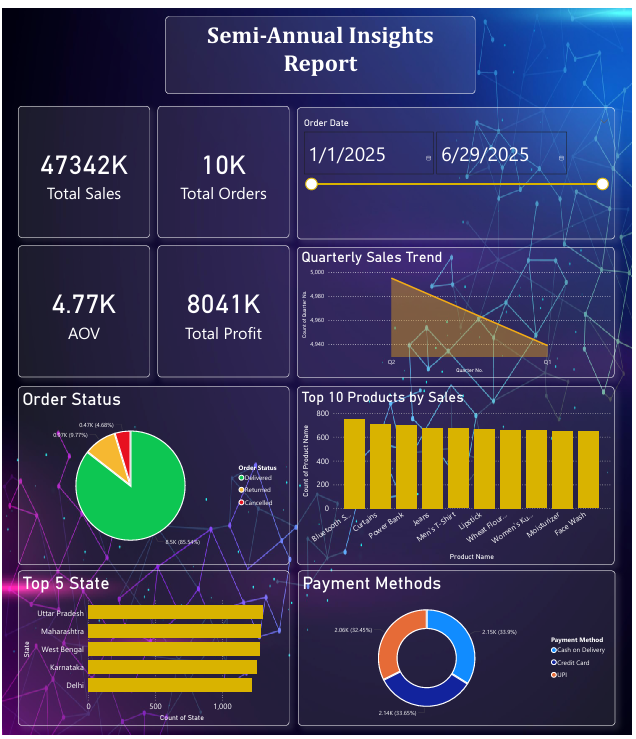

The dashboard page shown, as its layout file describes it:
{"tool":"powerbi","page":{"name":"Page 1","canvas":[1300,1500],"ordinal":0},"visuals":[{"type":"textbox","box":[336,16,640,160],"z":0},{"type":"card","fields":{"Values":["Sum(Sheet1.Total Sales (INR))"]},"box":[32,201.2,272,272],"z":1000},{"type":"card","fields":{"Values":["Sheet1.Total Orders"]},"box":[320,201.2,272,272],"z":2000},{"type":"card","fields":{"Values":["Sheet1.AOV"]},"box":[32,489.2,272,272],"z":3000},{"type":"card","fields":{"Values":["Sum(Sheet1.Profit (INR))"]},"box":[320,489.2,272,272],"z":4000},{"type":"slicer","fields":{"Values":["Sheet1.Order Date"]},"box":[608,204,656,272],"z":5000},{"type":"stackedAreaChart","title":"Quarterly Sales Trend ","fields":{"Category":["Sheet1.Quarter No."],"Y":["CountNonNull(Sheet1.Quarter No.)","select"]},"box":[608.3,491.7,655,270],"z":6000},{"type":"pieChart","title":"Order Status","fields":{"Category":["Sheet1.Delivery Status"],"Y":["CountNonNull(Sheet1.Delivery Status)"]},"box":[32,780,560,368],"z":7000},{"type":"clusteredBarChart","title":"Top 5 State","fields":{"Category":["Sheet1.State"],"Y":["CountNonNull(Sheet1.State)"]},"box":[32,1160,560,320],"z":8000},{"type":"donutChart","title":"Payment Methods","fields":{"Category":["Sheet1.Payment Method"],"Y":["CountNonNull(Sheet1.Payment Method)"]},"box":[610,1160,655,320],"z":9000},{"type":"clusteredColumnChart","title":"Top 10 Products by Sales","fields":{"Category":["Sheet1.Product Name"],"Y":["CountNonNull(Sheet1.Product Name)"]},"box":[608.3,780,655,368.3],"z":10000}]}

Visuals, with their boxes in screenshot pixels (x1, y1, x2, y2), scaled from the page's 1300x1500 canvas onto the 636x739 screenshot:
textbox: bbox=(164, 8, 477, 87)
card - Sum(Sheet1.Total Sales (INR)): bbox=(16, 99, 149, 233)
card - Sheet1.Total Orders: bbox=(157, 99, 290, 233)
card - Sheet1.AOV: bbox=(16, 241, 149, 375)
card - Sum(Sheet1.Profit (INR)): bbox=(157, 241, 290, 375)
slicer - Sheet1.Order Date: bbox=(297, 101, 618, 235)
"Quarterly Sales Trend " stackedAreaChart: bbox=(298, 242, 618, 375)
"Order Status" pieChart: bbox=(16, 384, 290, 566)
"Top 5 State" clusteredBarChart: bbox=(16, 571, 290, 729)
"Payment Methods" donutChart: bbox=(298, 571, 619, 729)
"Top 10 Products by Sales" clusteredColumnChart: bbox=(298, 384, 618, 566)
